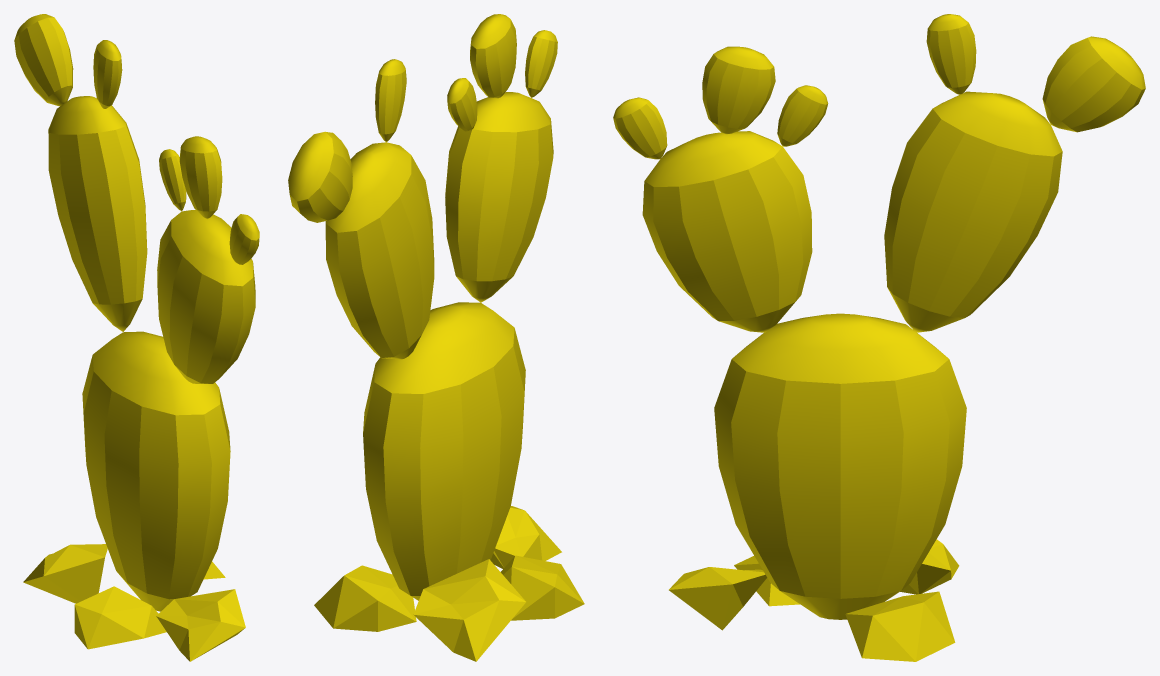
File: Envi_Cactus_Flat_02_v01.fbx
3 renders of one model, left to right at view 1: azimuth 30°, elevation 25°; view 2: azimuth 150°, elevation 25°; view 3: azimuth 270°, elevation 25°, orthographic. The views are drawn at different scales.
Visible parts, largest first — view 1: Truck_Ex_Set03_Cactus_Part_Bottom, Truck_Ex_Set03_Cactus_Part_Mid_01, Truck_Ex_Set03_Cactus_Part_Mid_02, Truck_Ex_Set03_RockCactus_Small_4, Truck_Ex_Set03_Cactus_Part_Top_01, Truck_Ex_Set03_RockCactus_Small_1, Truck_Ex_Set03_RockCactus_Small_2, Truck_Ex_Set03_Cactus_Part_Top_04, Truck_Ex_Set03_Cactus_Part_Top_02, Truck_Ex_Set03_Cactus_Part_Top_05, Truck_Ex_Set03_Cactus_Part_Top_03; view 2: Truck_Ex_Set03_Cactus_Part_Bottom, Truck_Ex_Set03_Cactus_Part_Mid_01, Truck_Ex_Set03_Cactus_Part_Mid_02, Truck_Ex_Set03_RockCactus_Small_2, Truck_Ex_Set03_RockCactus_Small_3, Truck_Ex_Set03_Cactus_Part_Top_01, Truck_Ex_Set03_RockCactus_Small_1, Truck_Ex_Set03_Cactus_Part_Top_04, Truck_Ex_Set03_RockCactus_Small_4, Truck_Ex_Set03_Cactus_Part_Top_02, Truck_Ex_Set03_Cactus_Part_Top_05, Truck_Ex_Set03_Cactus_Part_Top_03; view 3: Truck_Ex_Set03_Cactus_Part_Bottom, Truck_Ex_Set03_Cactus_Part_Mid_01, Truck_Ex_Set03_Cactus_Part_Mid_02, Truck_Ex_Set03_Cactus_Part_Top_01, Truck_Ex_Set03_RockCactus_Small_3, Truck_Ex_Set03_Cactus_Part_Top_04, Truck_Ex_Set03_RockCactus_Small_4, Truck_Ex_Set03_Cactus_Part_Top_02, Truck_Ex_Set03_Cactus_Part_Top_05, Truck_Ex_Set03_Cactus_Part_Top_03, Truck_Ex_Set03_RockCactus_Small_2, Truck_Ex_Set03_RockCactus_Small_1.
Part boxes in pixels (x1,y1,x2,y2): Truck_Ex_Set03_Cactus_Part_Bottom: [82, 331, 230, 611]; Truck_Ex_Set03_Cactus_Part_Mid_01: [48, 96, 147, 331]; Truck_Ex_Set03_Cactus_Part_Mid_02: [157, 210, 255, 383]; Truck_Ex_Set03_RockCactus_Small_4: [156, 589, 245, 661]; Truck_Ex_Set03_Cactus_Part_Top_01: [14, 14, 73, 106]; Truck_Ex_Set03_RockCactus_Small_1: [74, 586, 166, 649]; Truck_Ex_Set03_RockCactus_Small_2: [23, 544, 107, 603]; Truck_Ex_Set03_Cactus_Part_Top_04: [179, 136, 222, 219]; Truck_Ex_Set03_Cactus_Part_Top_02: [93, 40, 122, 108]; Truck_Ex_Set03_Cactus_Part_Top_05: [229, 214, 259, 264]; Truck_Ex_Set03_Cactus_Part_Top_03: [159, 149, 186, 211]; Truck_Ex_Set03_Cactus_Part_Bottom: [363, 302, 525, 600]; Truck_Ex_Set03_Cactus_Part_Mid_01: [325, 142, 434, 359]; Truck_Ex_Set03_Cactus_Part_Mid_02: [445, 92, 553, 302]; Truck_Ex_Set03_RockCactus_Small_2: [413, 559, 525, 661]; Truck_Ex_Set03_RockCactus_Small_3: [314, 565, 416, 631]; Truck_Ex_Set03_Cactus_Part_Top_01: [288, 131, 352, 222]; Truck_Ex_Set03_RockCactus_Small_1: [501, 555, 584, 620]; Truck_Ex_Set03_Cactus_Part_Top_04: [470, 14, 516, 98]; Truck_Ex_Set03_RockCactus_Small_4: [490, 506, 561, 568]; Truck_Ex_Set03_Cactus_Part_Top_02: [375, 59, 406, 142]; Truck_Ex_Set03_Cactus_Part_Top_05: [525, 30, 557, 97]; Truck_Ex_Set03_Cactus_Part_Top_03: [447, 78, 477, 131]; Truck_Ex_Set03_Cactus_Part_Bottom: [714, 313, 966, 619]; Truck_Ex_Set03_Cactus_Part_Mid_01: [884, 91, 1062, 332]; Truck_Ex_Set03_Cactus_Part_Mid_02: [642, 131, 812, 332]; Truck_Ex_Set03_Cactus_Part_Top_01: [1042, 36, 1145, 132]; Truck_Ex_Set03_RockCactus_Small_3: [845, 591, 955, 661]; Truck_Ex_Set03_Cactus_Part_Top_04: [702, 46, 775, 134]; Truck_Ex_Set03_RockCactus_Small_4: [669, 567, 767, 630]; Truck_Ex_Set03_Cactus_Part_Top_02: [926, 14, 976, 94]; Truck_Ex_Set03_Cactus_Part_Top_05: [613, 97, 667, 159]; Truck_Ex_Set03_Cactus_Part_Top_03: [777, 85, 828, 146]; Truck_Ex_Set03_RockCactus_Small_2: [900, 539, 959, 594]; Truck_Ex_Set03_RockCactus_Small_1: [734, 556, 799, 606].
Size of the model in its own units: 7.87 by 21.56 by 17.36.
